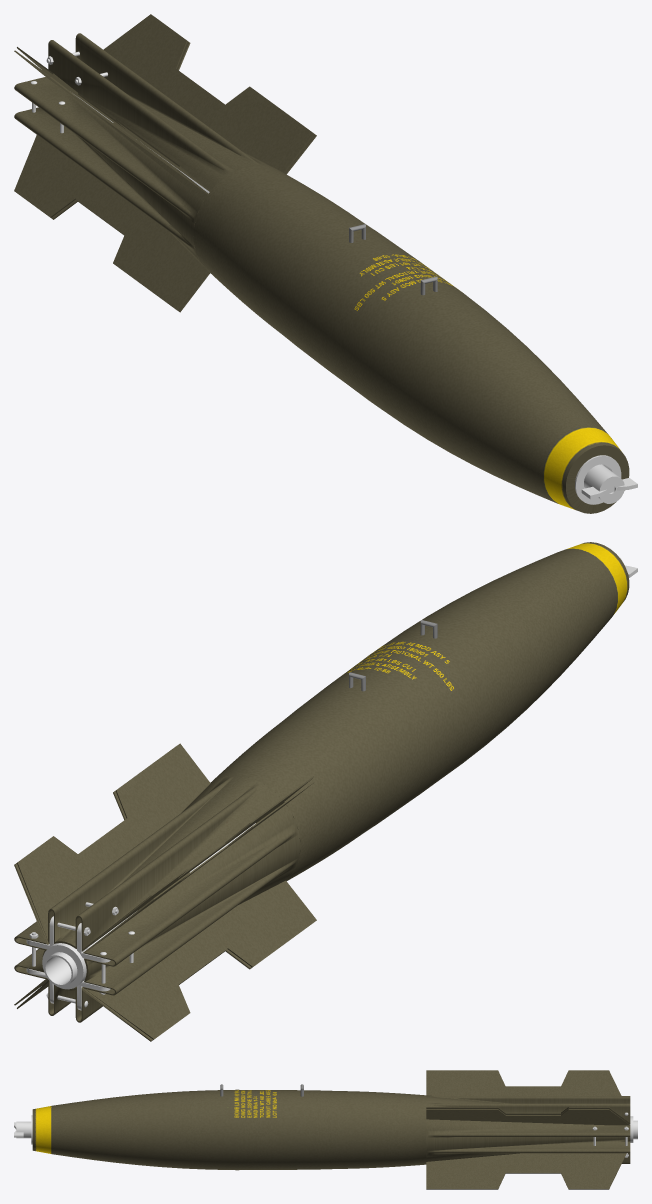
The model's file is Mk 82 Snakeye.obj.
3 renders of one model, top to bottom at view 1: azimuth 30°, elevation 25°; view 2: azimuth 150°, elevation 25°; view 3: azimuth 270°, elevation 25°, orthographic. The views are drawn at different scales.
Visible parts, largest first — view 1: _2body, _2wing02, _2wing01, _2fuse, _2fuse_holder; view 2: _2body, _2wing02, _2wing01, _2tube, _2wing03, _2wing04; view 3: _2body, _2wing04, _2wing01, _2wing03, _2fuse.
Boxes of the visible parts, bbox=[...] form: _2body: bbox=[193, 165, 629, 513]; _2wing02: bbox=[14, 50, 208, 310]; _2wing01: bbox=[17, 14, 313, 191]; _2fuse: bbox=[581, 464, 637, 503]; _2fuse_holder: bbox=[575, 455, 621, 504]; _2body: bbox=[210, 542, 629, 881]; _2wing02: bbox=[82, 780, 316, 1039]; _2wing01: bbox=[17, 743, 313, 951]; _2tube: bbox=[26, 823, 255, 1010]; _2wing03: bbox=[17, 949, 252, 1041]; _2wing04: bbox=[14, 790, 126, 1005]; _2body: bbox=[32, 1089, 426, 1170]; _2wing04: bbox=[426, 1109, 630, 1188]; _2wing01: bbox=[426, 1070, 630, 1124]; _2wing03: bbox=[426, 1153, 630, 1189]; _2fuse: bbox=[14, 1121, 31, 1138].
Size of the model in its own units: 0.2524 by 0.2594 by 1.73.
Materials: 4 (2 with a texture image).
